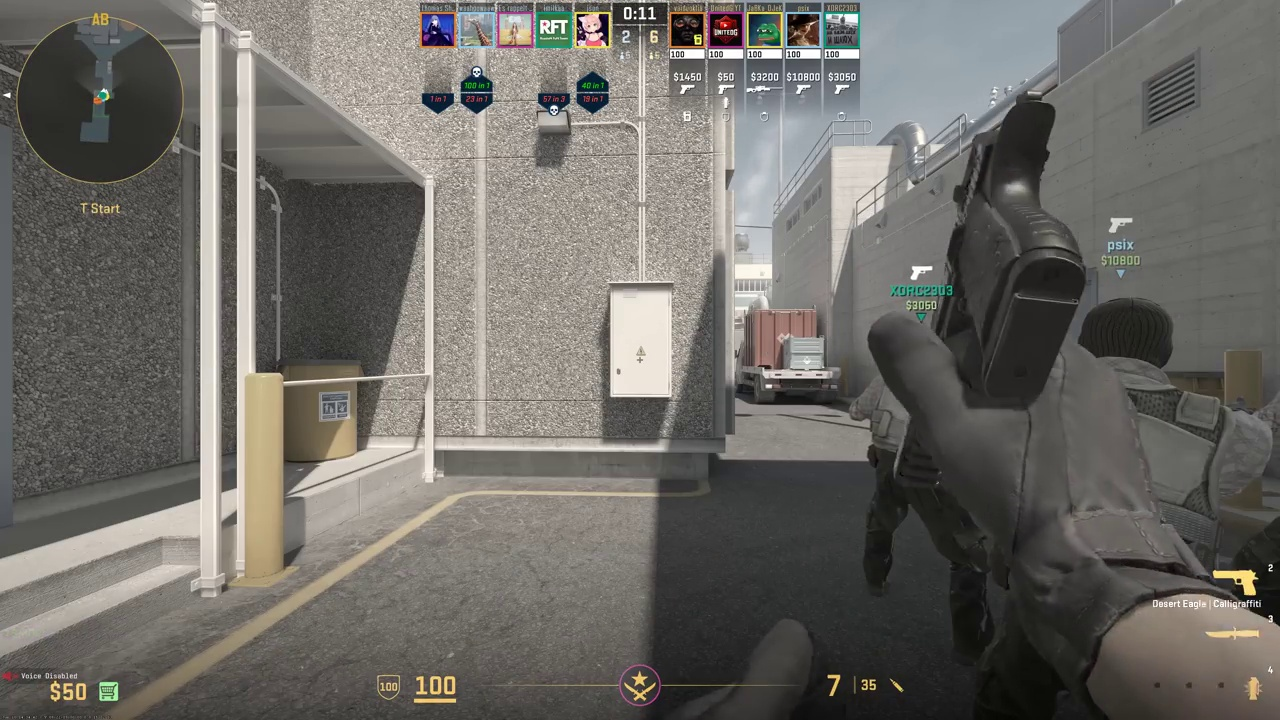Terrorist: (1076, 296, 1257, 584), (864, 319, 973, 623)
